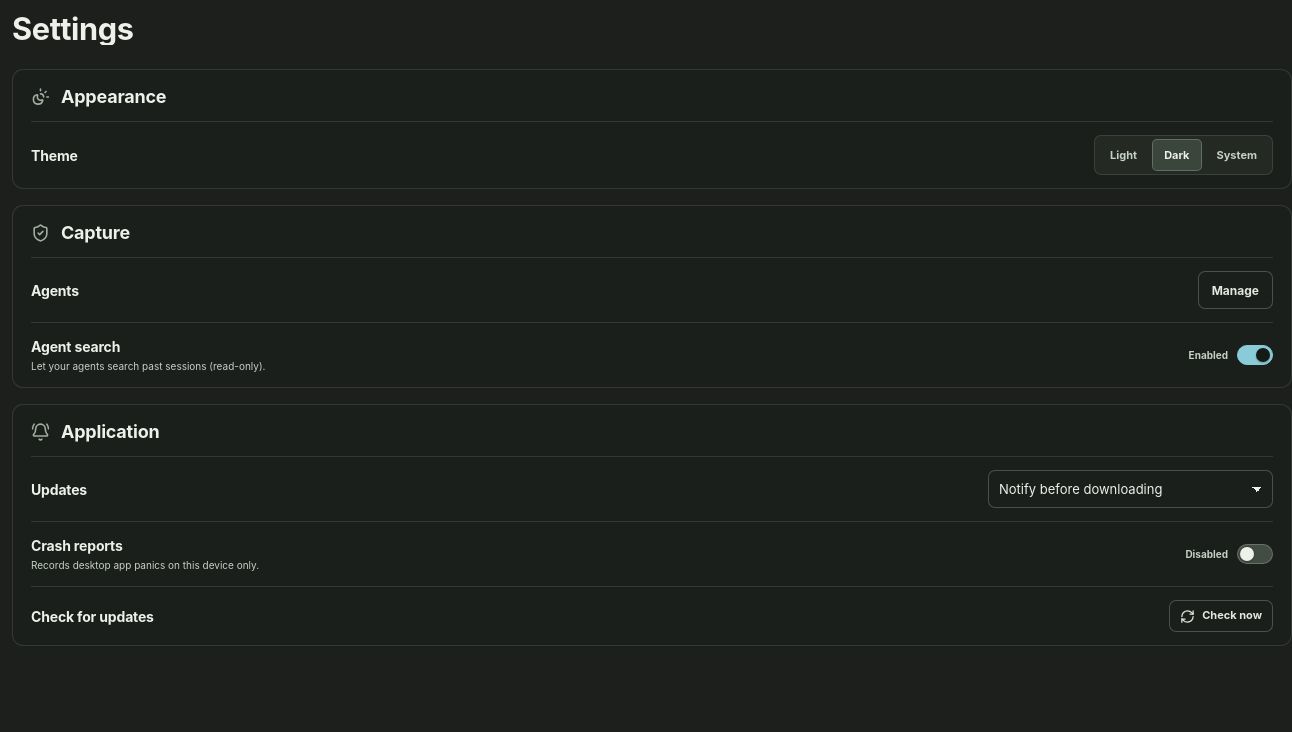
Test: settings appearance preference › keeps an unconfirmed conflict preview explicit until a retry can read the winner
This screenshot has width=1292, height=732.
Expected: the button "Dark" is shown, [1152,139,1202,171]
Click the button "Light" at coordinates (1124, 155), box [1098,139,1149,171]
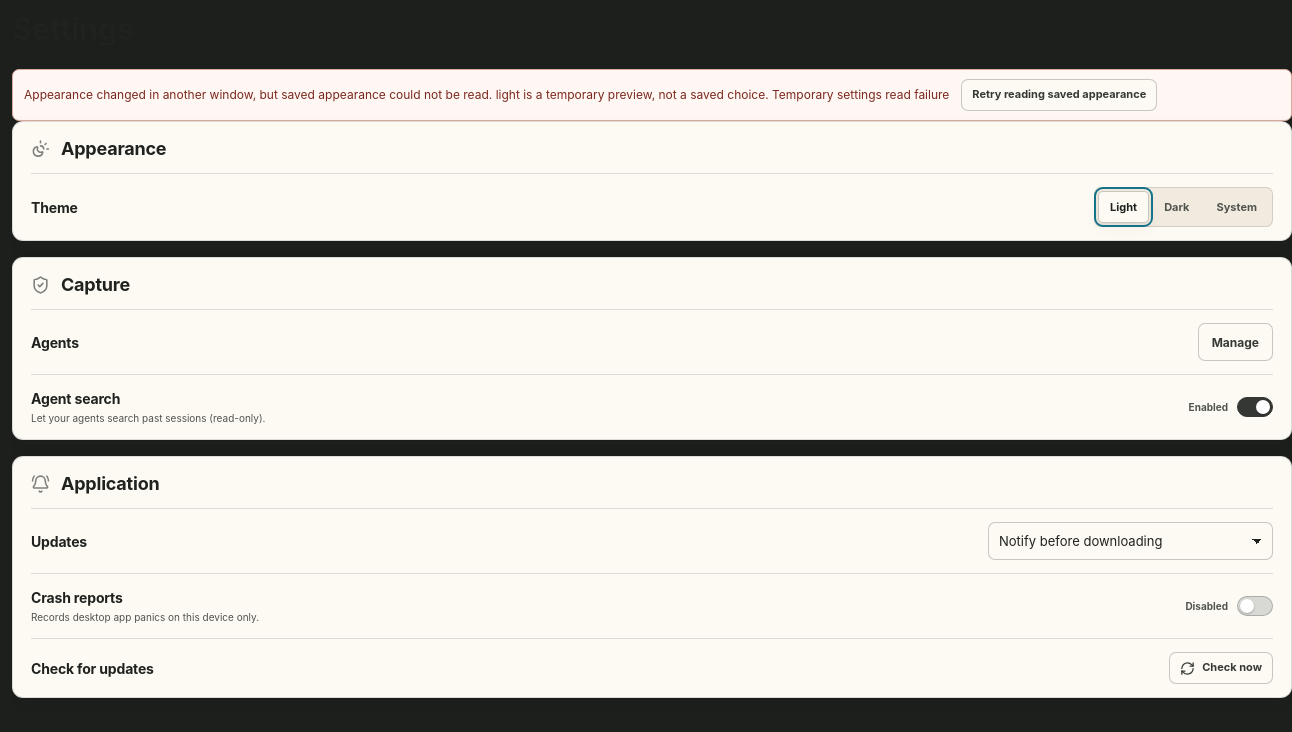
Expected: the text "temporary preview, not a saved choice" is shown, [24,87,949,102]
Click the button "Retry reading saved appearance" at coordinates (1059, 95), box [961,79,1157,111]
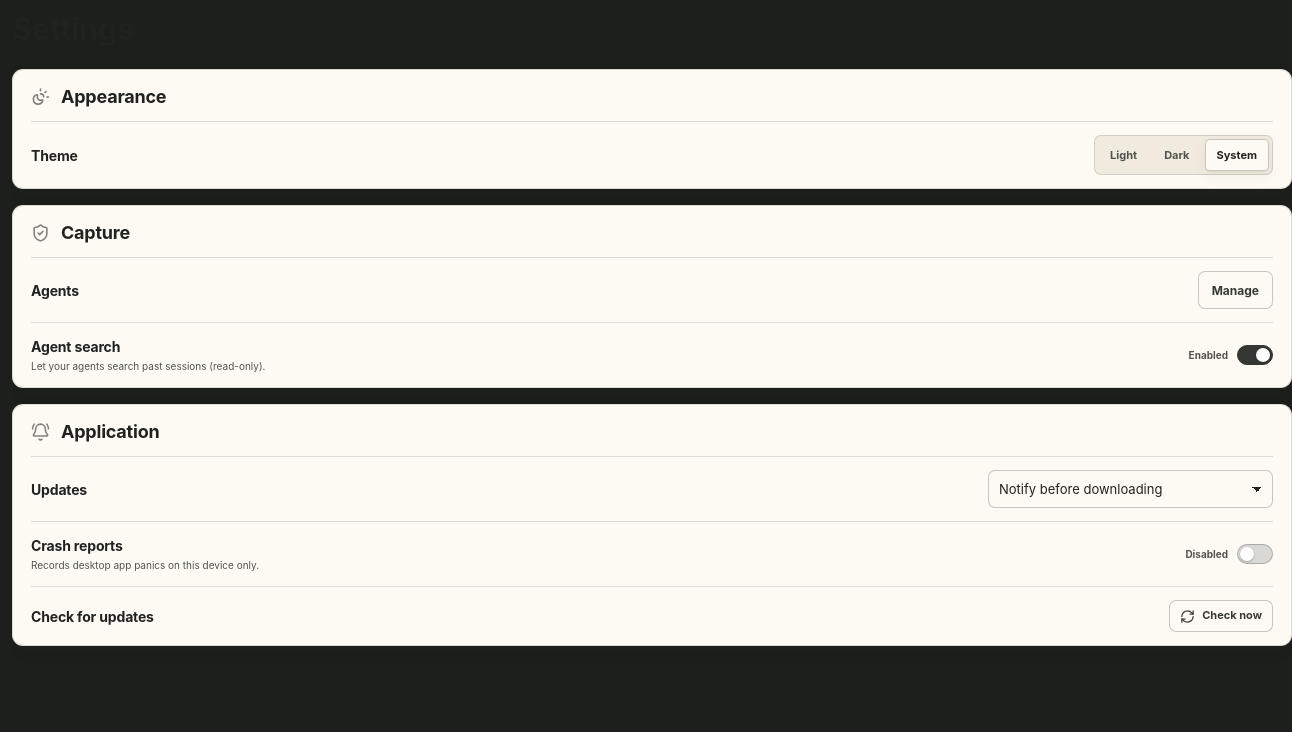
Expected: the button "System" is shown, [1204,139,1269,171]
Expected: the button "Retry reading saved appearance" is gone
